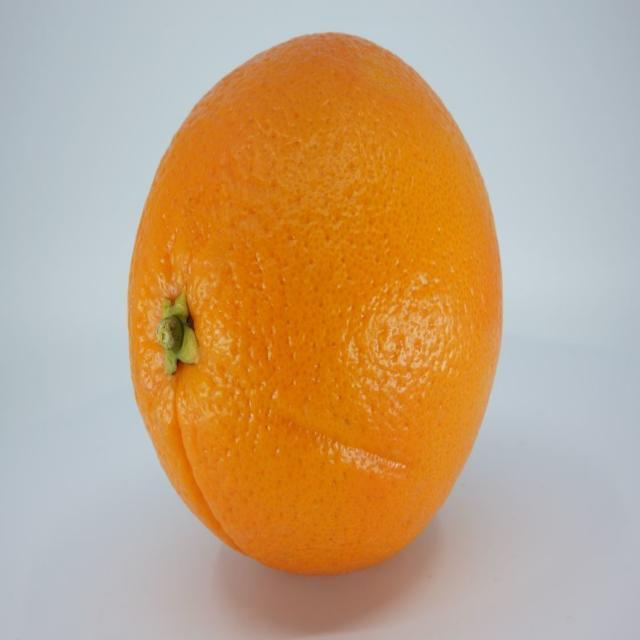Orange: (126, 30, 504, 576)
